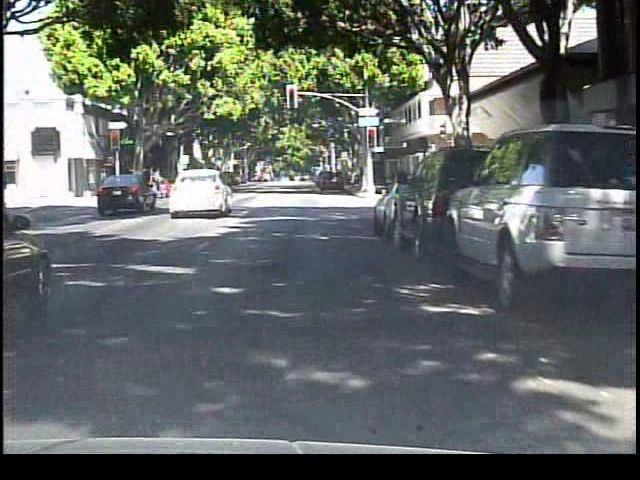person: (150, 164, 168, 197)
